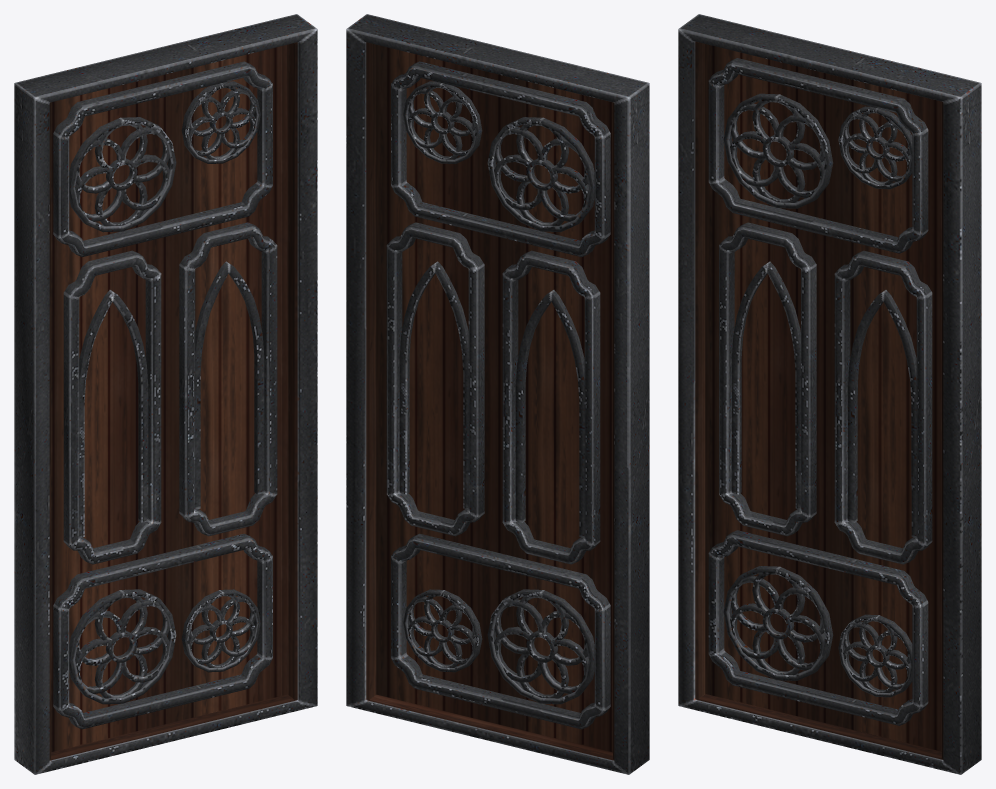
File: Door_A_right.fbx
The picture shows the model from 3 angles, left to right: view 1: azimuth 30°, elevation 25°; view 2: azimuth 150°, elevation 25°; view 3: azimuth 330°, elevation 25°; orthographic projection.
Visible parts, largest first — view 1: Door_A_right; view 2: Door_A_right; view 3: Door_A_right.
Boxes of the visible parts, x1=… form: Door_A_right: x1=14, y1=14, x2=317, y2=774; Door_A_right: x1=346, y1=14, x2=649, y2=774; Door_A_right: x1=678, y1=14, x2=981, y2=774.
Size of the model in its own units: 3.44 by 7.86 by 0.4438.
